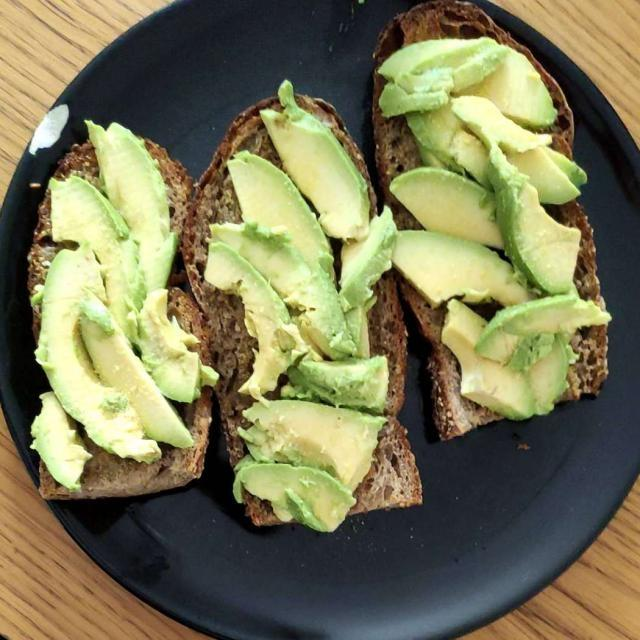avocado: (396, 45, 578, 403), (246, 143, 372, 515), (54, 165, 166, 442)
bread: (59, 21, 582, 497)
